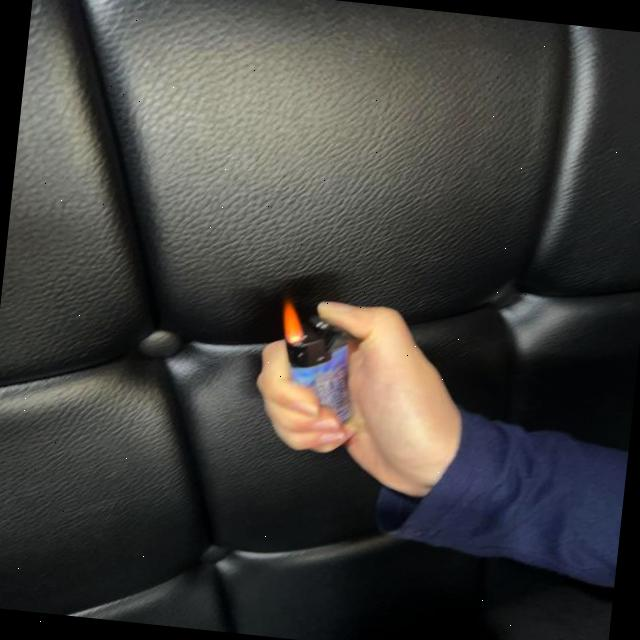fire: (276, 301, 308, 346)
